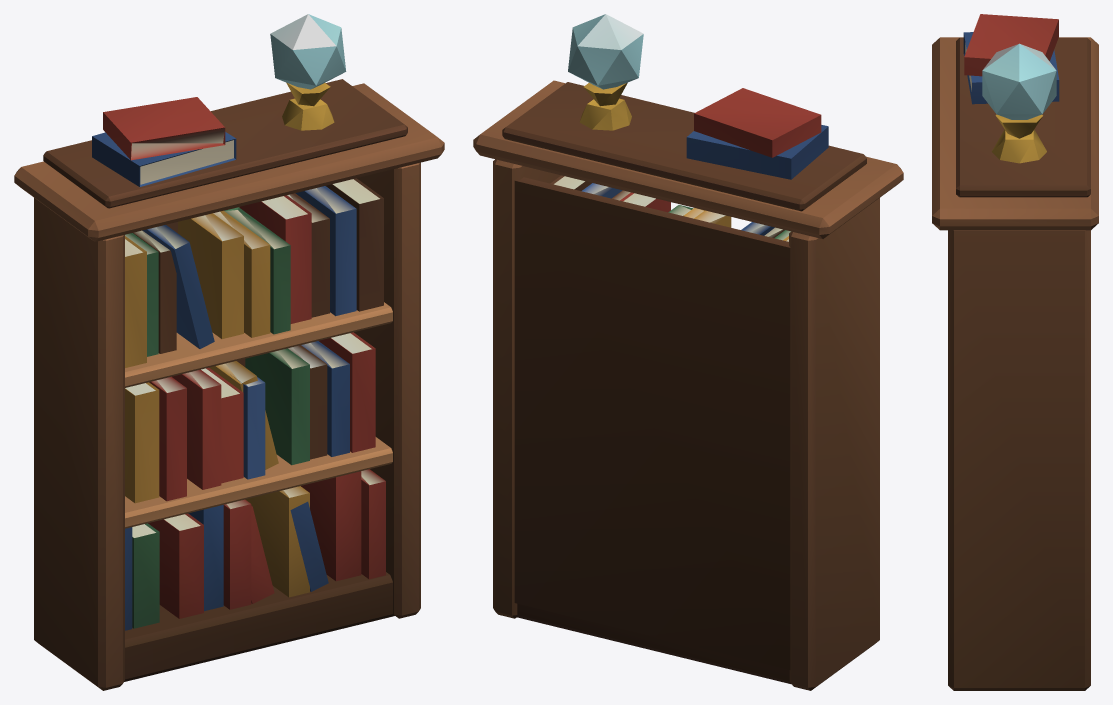
File: bookshelf.low.glb
3 renders of one model, left to right at view 1: azimuth 30°, elevation 25°; view 2: azimuth 150°, elevation 25°; view 3: azimuth 270°, elevation 25°, orthographic. The views are drawn at different scales.
Visible parts, largest first — view 1: bookshelf; view 2: bookshelf; view 3: bookshelf.
Boxes of the visible parts, box(x1,y1,x2,y2) form: bookshelf: box(14, 14, 444, 690); bookshelf: box(473, 14, 903, 690); bookshelf: box(932, 14, 1098, 690).
Bounding box in the file's own units: 1.06 × 1.69 × 0.42.
